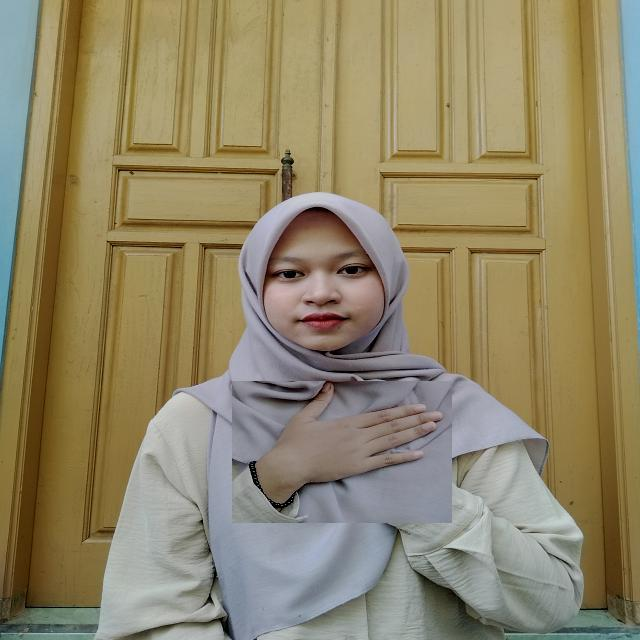tolong: (232, 381, 452, 523)
